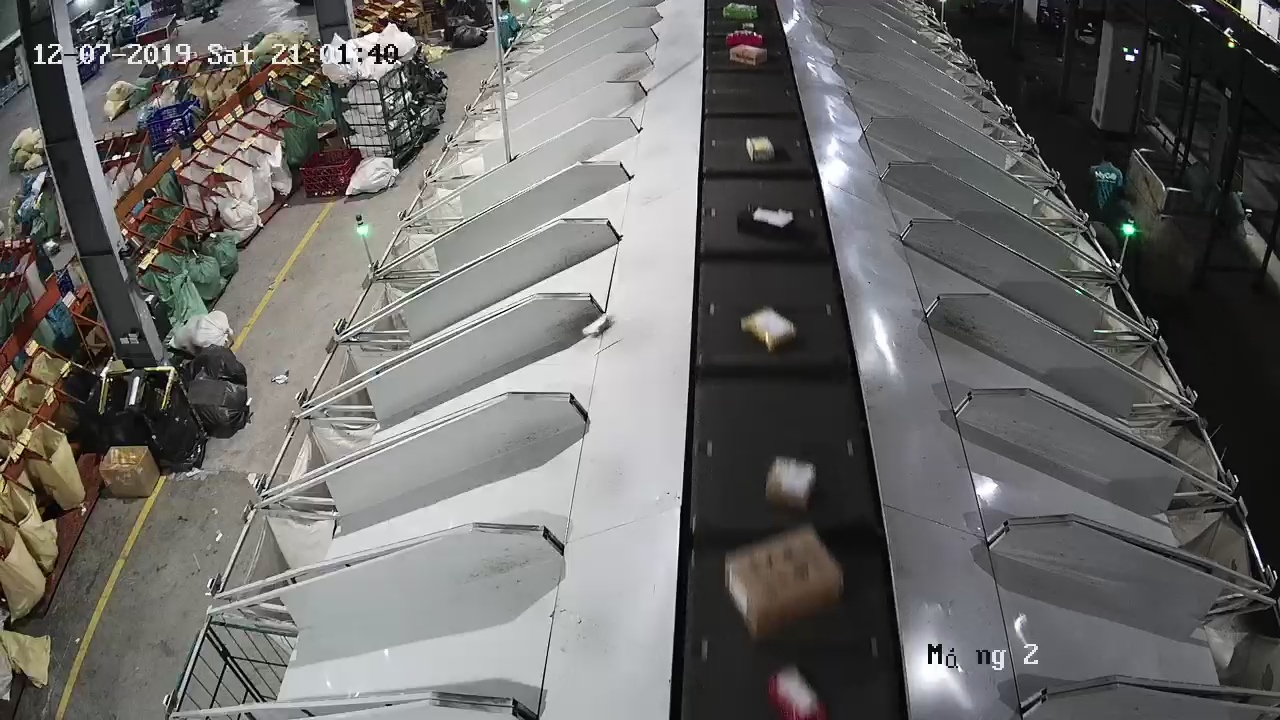parcel: (580, 312, 613, 338)
